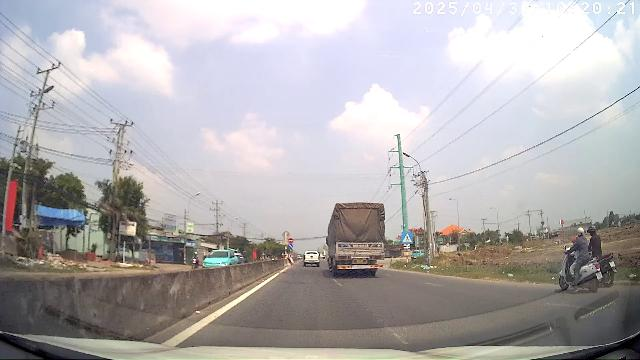102-cam-di-nguoc-chieu: (288, 237, 293, 243)
302a-huong-phai-di-vong-chuong-ngai-vat-1: (288, 243, 293, 249)
423a-duong-nguoi-di-bo-sang-ngang-1: (402, 231, 413, 244)
